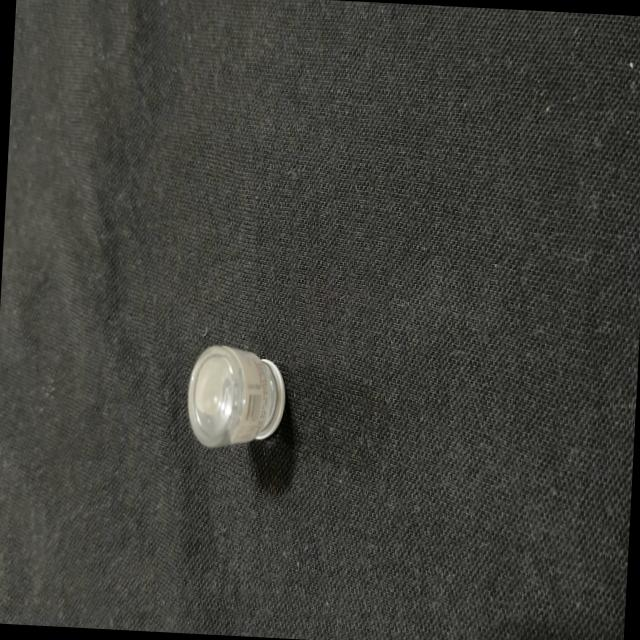fentanl_citrat: (188, 345, 286, 450)
